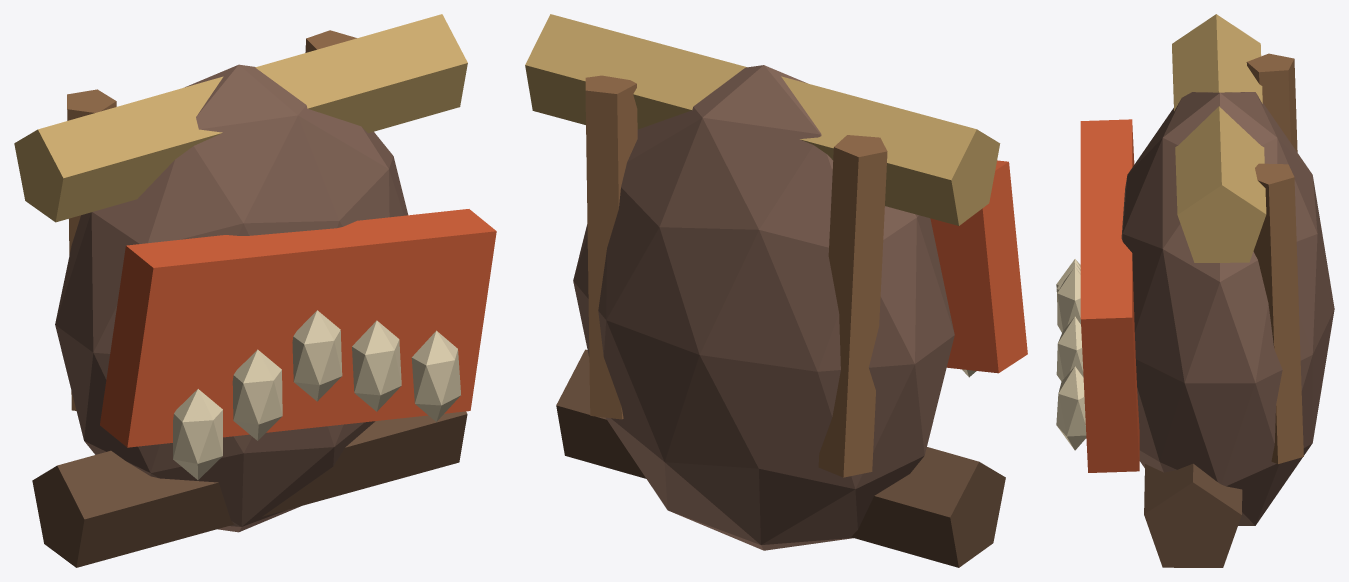
Rendered from shell_courier_kit.glb.
3 views of the same model, side by side, from view 1: azimuth 30°, elevation 25°; view 2: azimuth 150°, elevation 25°; view 3: azimuth 270°, elevation 25° (orthographic). The views are drawn at different scales.
Visible parts, largest first — view 1: shell_courier_kit; view 2: shell_courier_kit; view 3: shell_courier_kit.
Boxes of the visible parts, x1,y1,x2,y2 form: shell_courier_kit: (14,14,496,567); shell_courier_kit: (525,14,1027,567); shell_courier_kit: (1056,14,1334,567).
Size of the model in its own units: 0.9366 by 1.02 by 0.5951.
